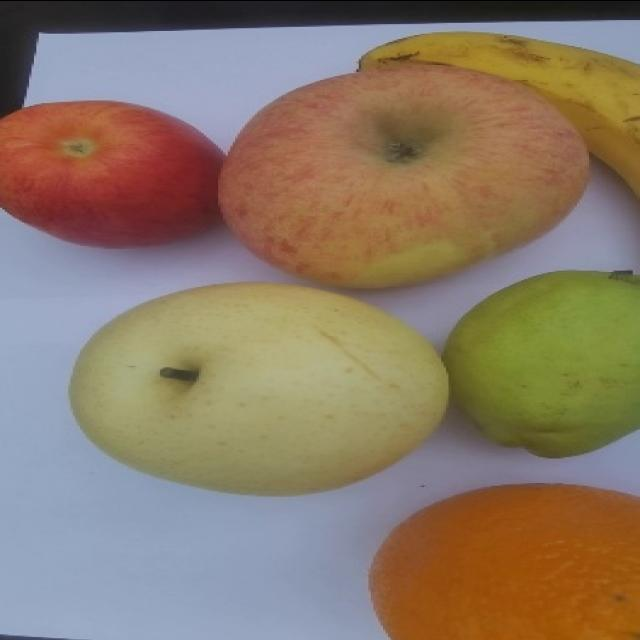Apple: (216, 60, 590, 290), (0, 98, 226, 248)
Banana: (356, 30, 639, 200)
Orange: (367, 481, 639, 639)
